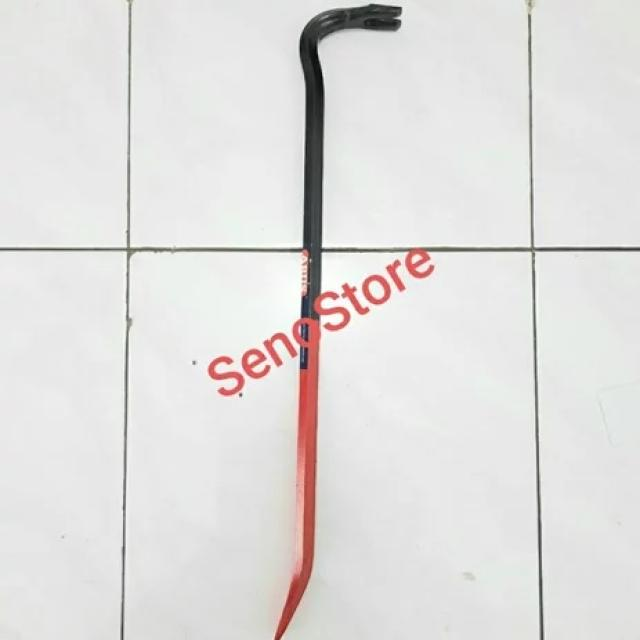Linggis: (276, 1, 403, 640)
